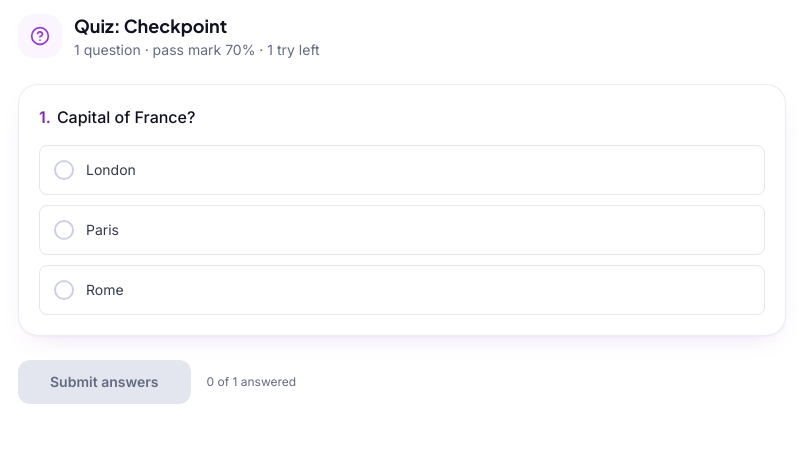
Test: when the attempts are gone › says there is nothing left rather than offering a retry
What coordinates should you click on to do the following:
click the button "Paris"
I would click on:
 (102, 230)
Its box is [39, 205, 765, 255].
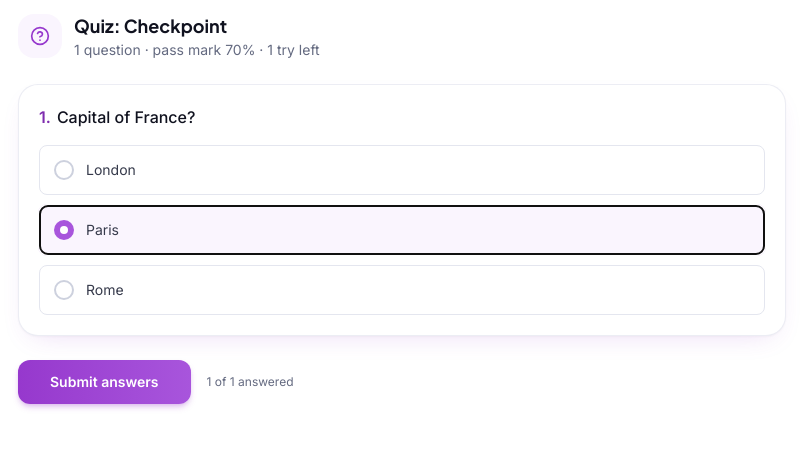
What coordinates should you click on to do the following:
click the button "Submit answers"
I would click on:
 (104, 382)
Its box is [18, 360, 190, 404].
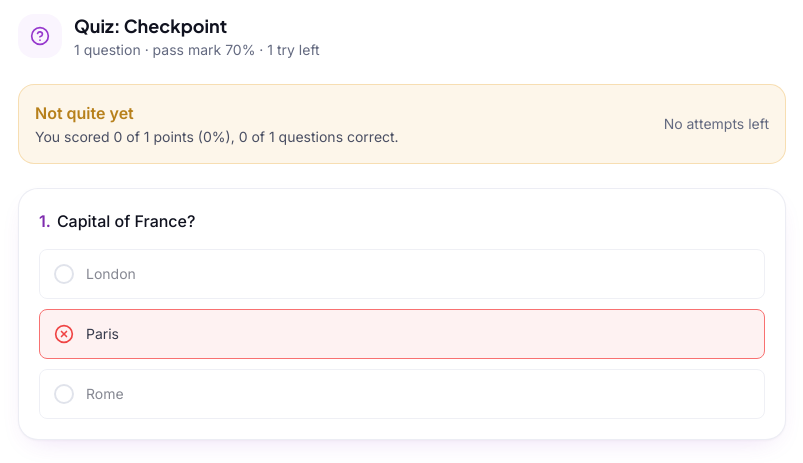
Check: the text "No attempts left" is shown, box [664, 114, 769, 134]
